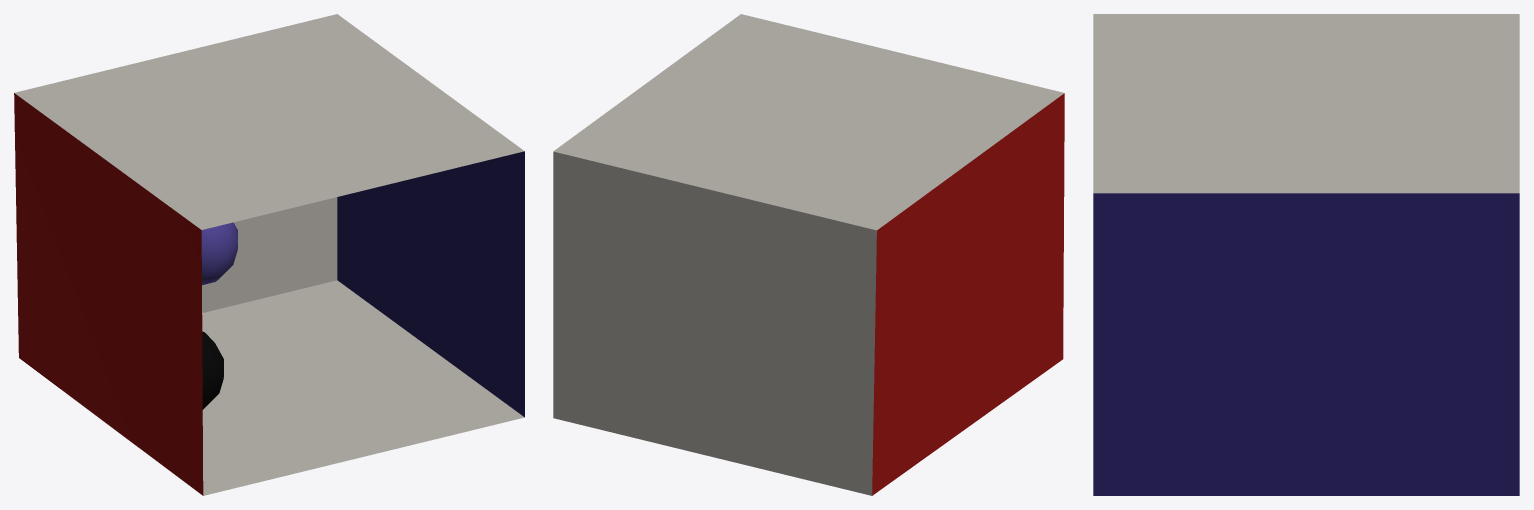
Rendered from CornellBox-Sphere-735.obj.
3 renders of one model, left to right at view 1: azimuth 30°, elevation 25°; view 2: azimuth 150°, elevation 25°; view 3: azimuth 270°, elevation 25°, orthographic. The views are drawn at different scales.
Visible parts, largest first — view 1: ceiling, leftWall, floor, rightWall, backWall, leftSphere, rightSphere; view 2: backWall, ceiling, leftWall; view 3: rightWall, ceiling.
Boxes of the visible parts, left/top/right/bottom form: ceiling: left=14, top=14, right=524, bottom=229; leftWall: left=14, top=93, right=203, bottom=495; floor: left=202, top=280, right=524, bottom=495; rightWall: left=337, top=151, right=524, bottom=417; backWall: left=202, top=197, right=337, bottom=312; leftSphere: left=201, top=222, right=237, bottom=285; rightSphere: left=202, top=331, right=223, bottom=409; backWall: left=553, top=151, right=876, bottom=495; ceiling: left=553, top=14, right=1064, bottom=230; leftWall: left=872, top=93, right=1064, bottom=495; rightWall: left=1093, top=193, right=1519, bottom=495; ceiling: left=1093, top=14, right=1519, bottom=193.
Size of the model in its own units: 2.02 by 1.59 by 2.03.
